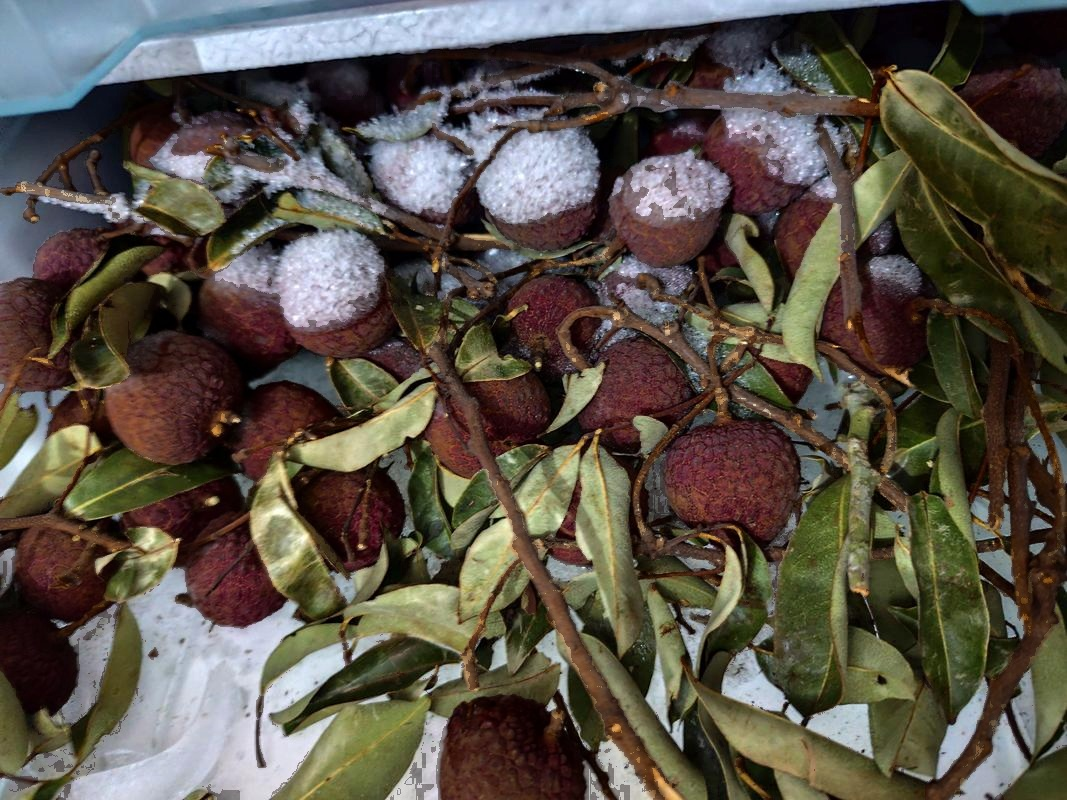Frost_Blight: (384, 53, 690, 324), (690, 0, 906, 299), (132, 97, 378, 334)
